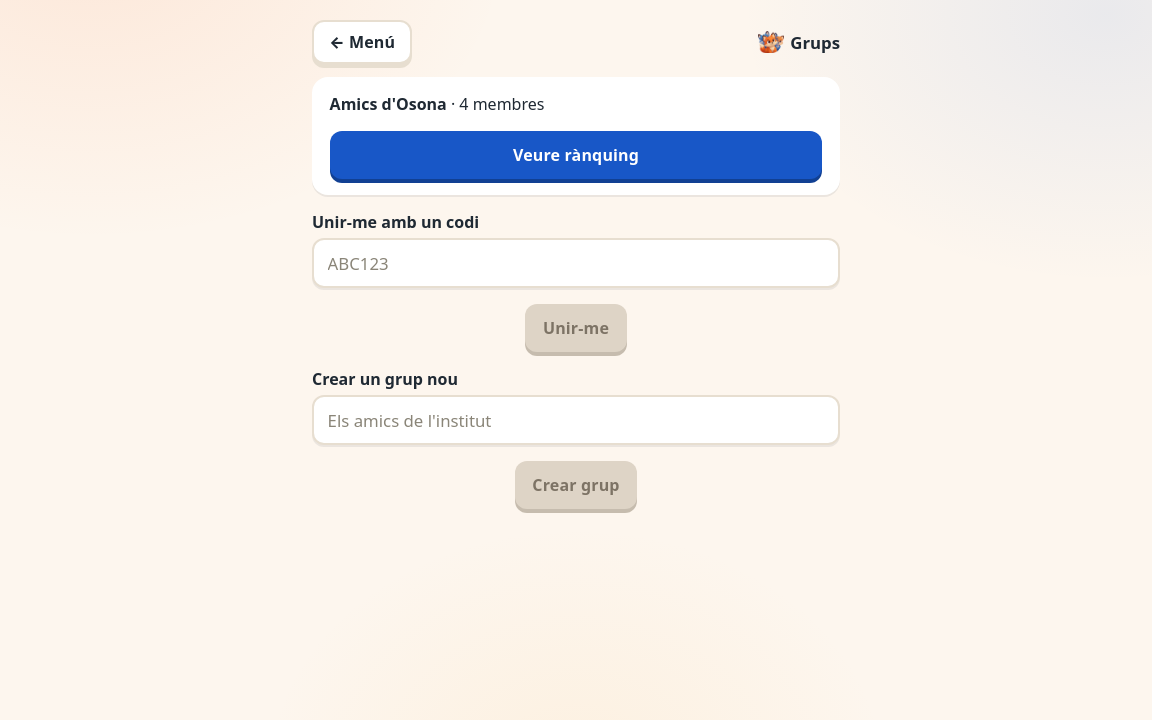
GroupsScreen component › mostra error si falla refresh després de sortir d'un grup
This screenshot has width=1152, height=720.
Click the button "Veure rànquing": (576, 155) [330, 131, 822, 179]
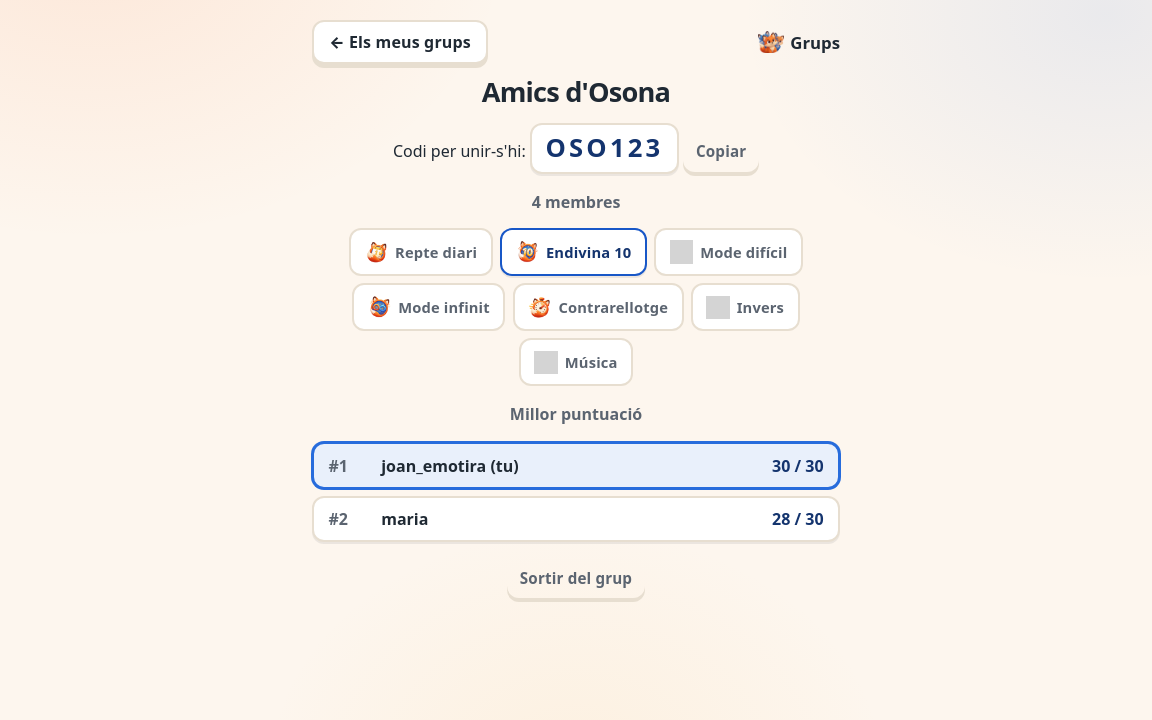
Click the button "Sortir del grup": (576, 578) [507, 558, 645, 598]
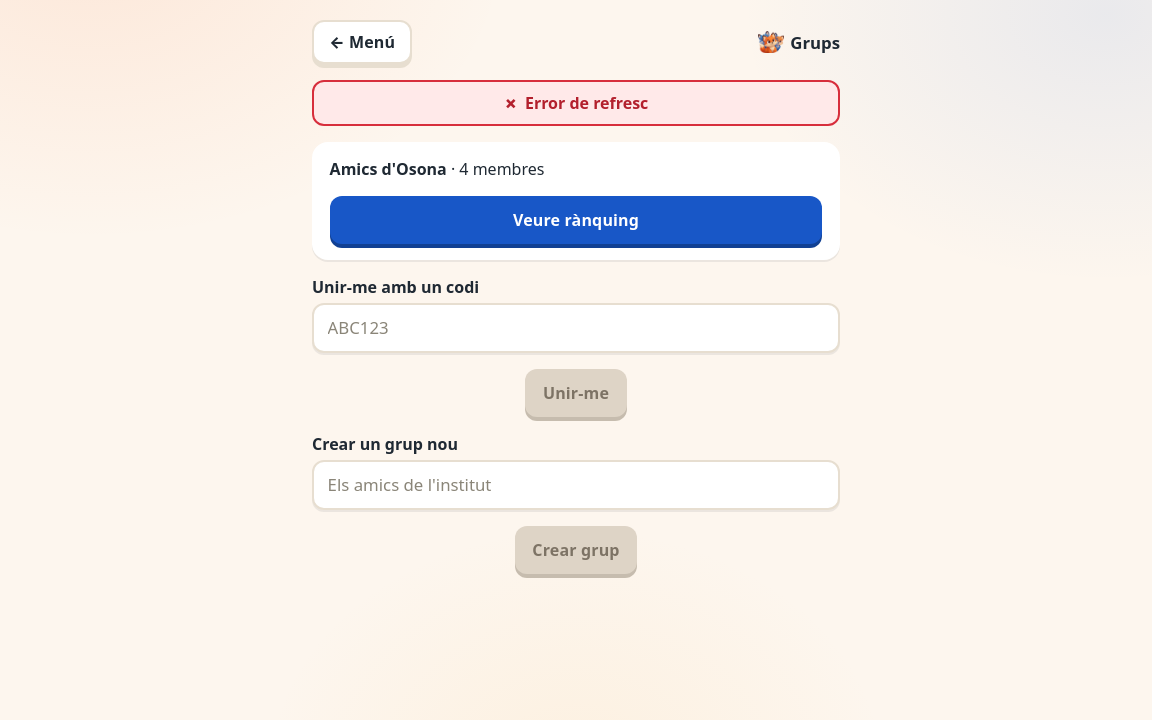
Result: the text "Error de refresc" is shown at [312, 80, 840, 126]
